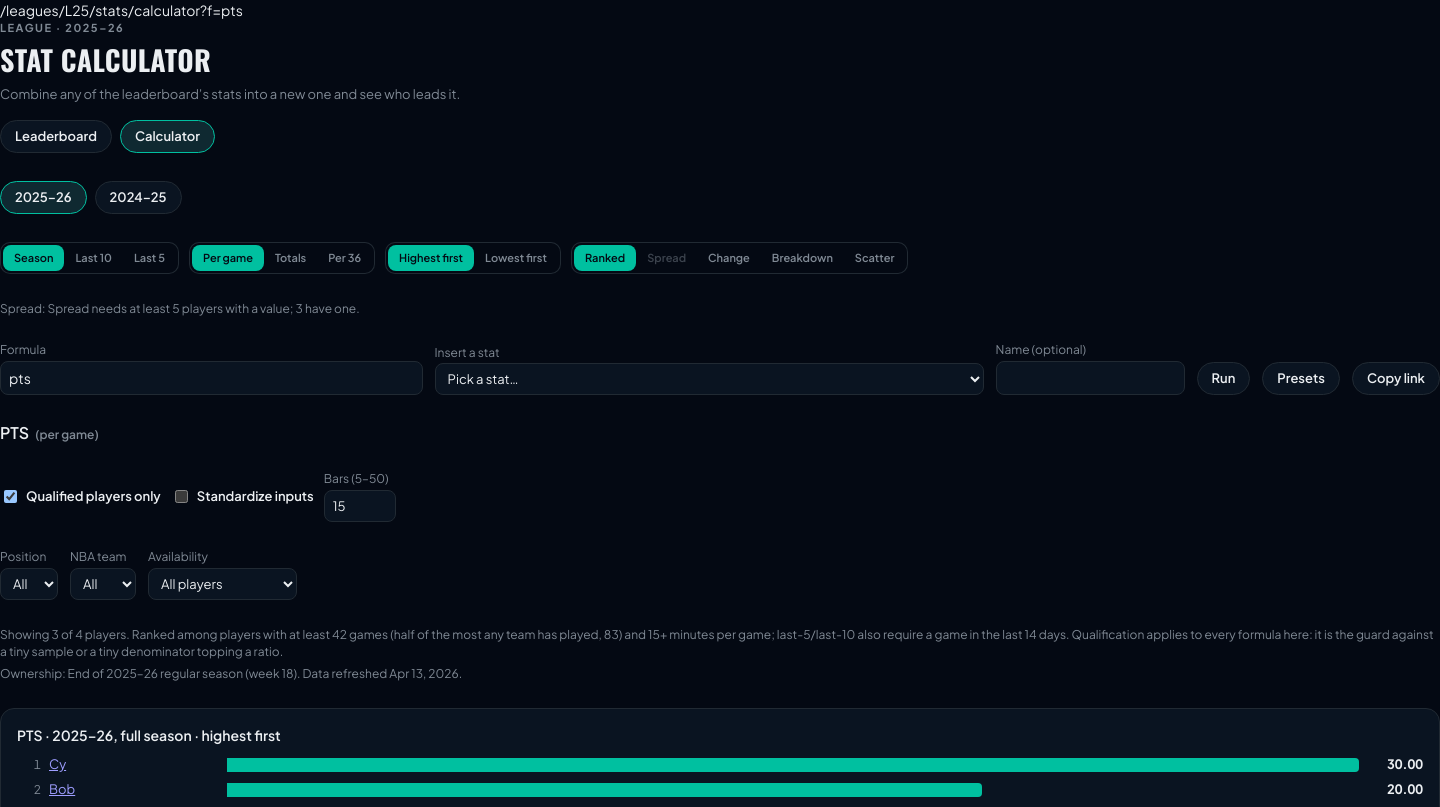
Test case: StatCalculator › shows "Showing n of N" with the full rule, and lists everyone when qualification is off
Expected: the field labelled "Formula" is shown, [0, 361, 422, 395]
Expected: the text "Showing 3 of 4 players." is shown, [0, 627, 132, 642]
Click the checkbox labelled "Qualified players only": (10, 496) [4, 490, 17, 503]
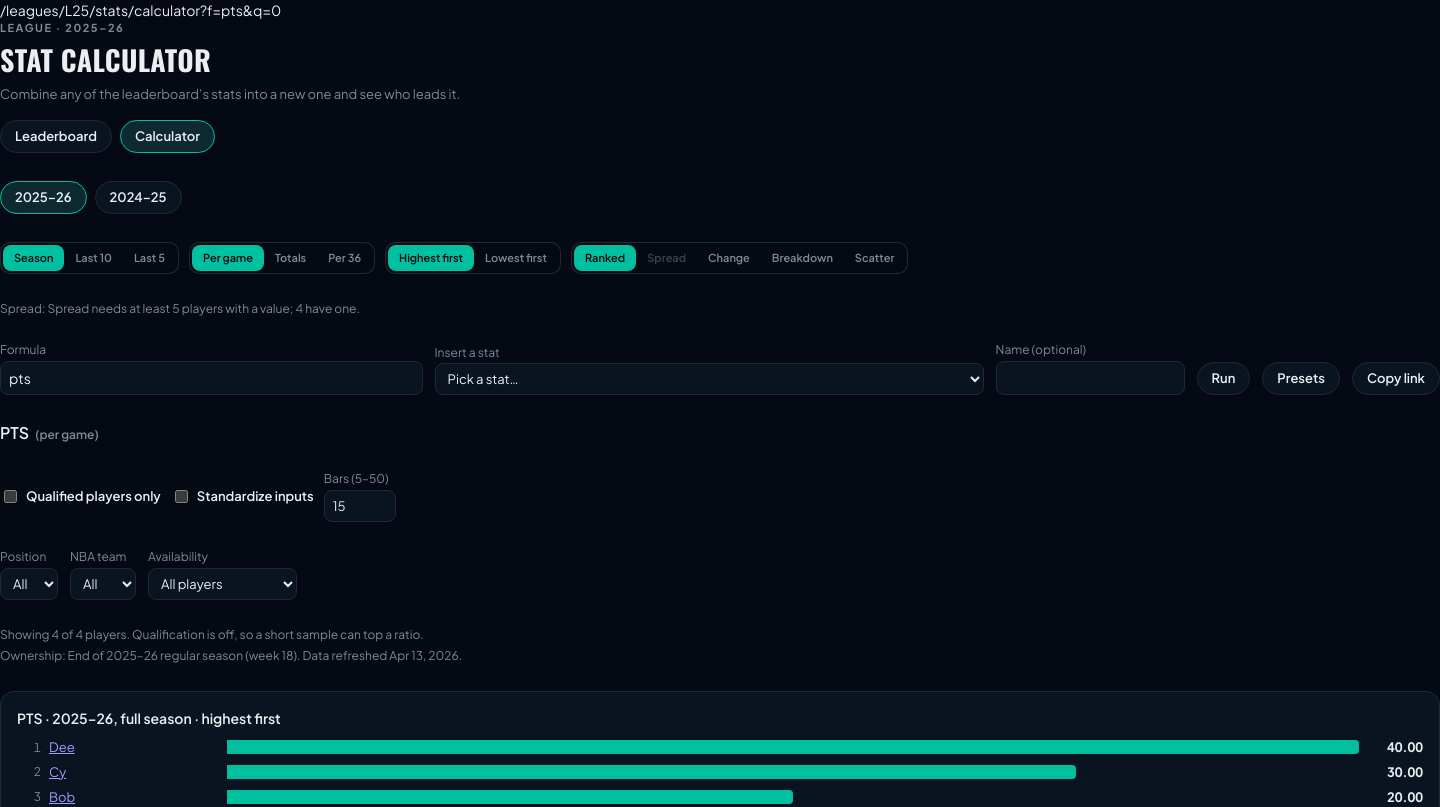
Now the text "Showing 4 of 4 players." is shown, box [0, 627, 132, 642]
Now the text with test id "where" shows "q=0", box [0, 1, 281, 19]
